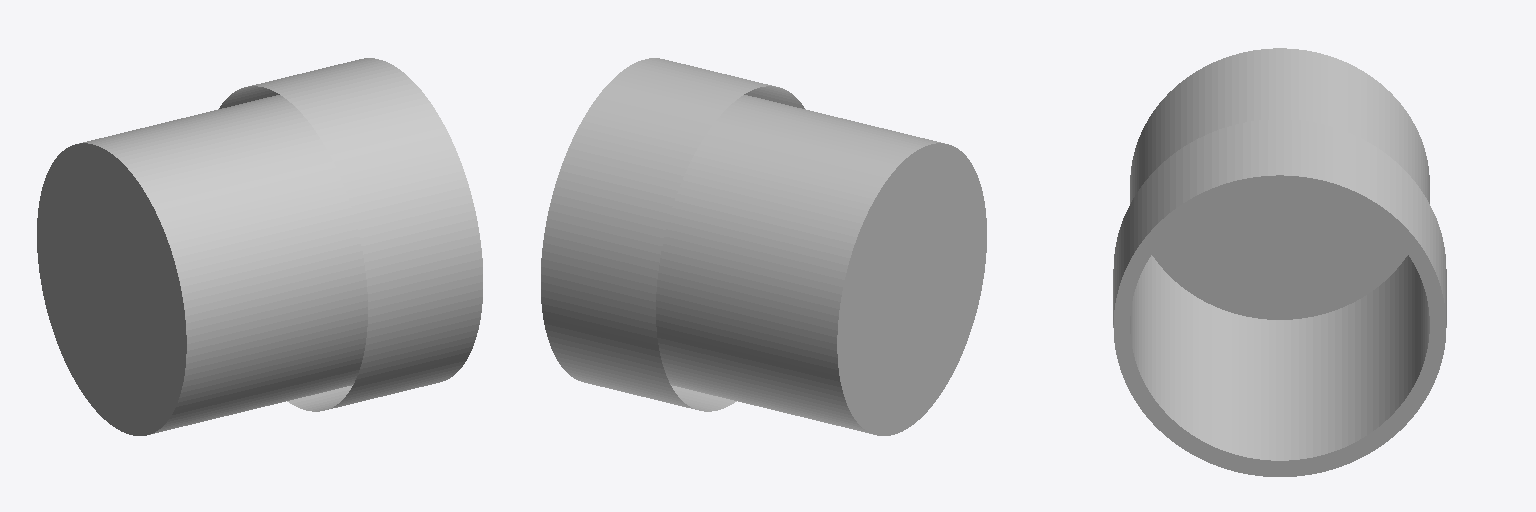
Rendered from separator_clean_oil.obj.
3 renders of one model, left to right at view 1: azimuth 30°, elevation 25°; view 2: azimuth 150°, elevation 25°; view 3: azimuth 270°, elevation 25°, orthographic.
Parts seen in each view (by area): view 1: obj1; view 2: obj1; view 3: obj1.
Boxes of the visible parts, x1=… form: obj1: x1=37, y1=58, x2=482, y2=435; obj1: x1=541, y1=58, x2=986, y2=435; obj1: x1=1113, y1=48, x2=1446, y2=476.
Bounding box in the file's own units: 2 × 2 × 2.